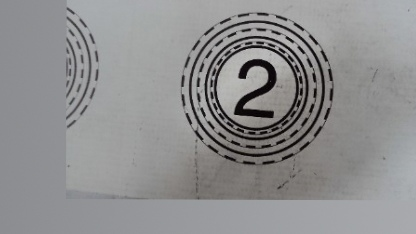2r: (178, 9, 334, 167)
